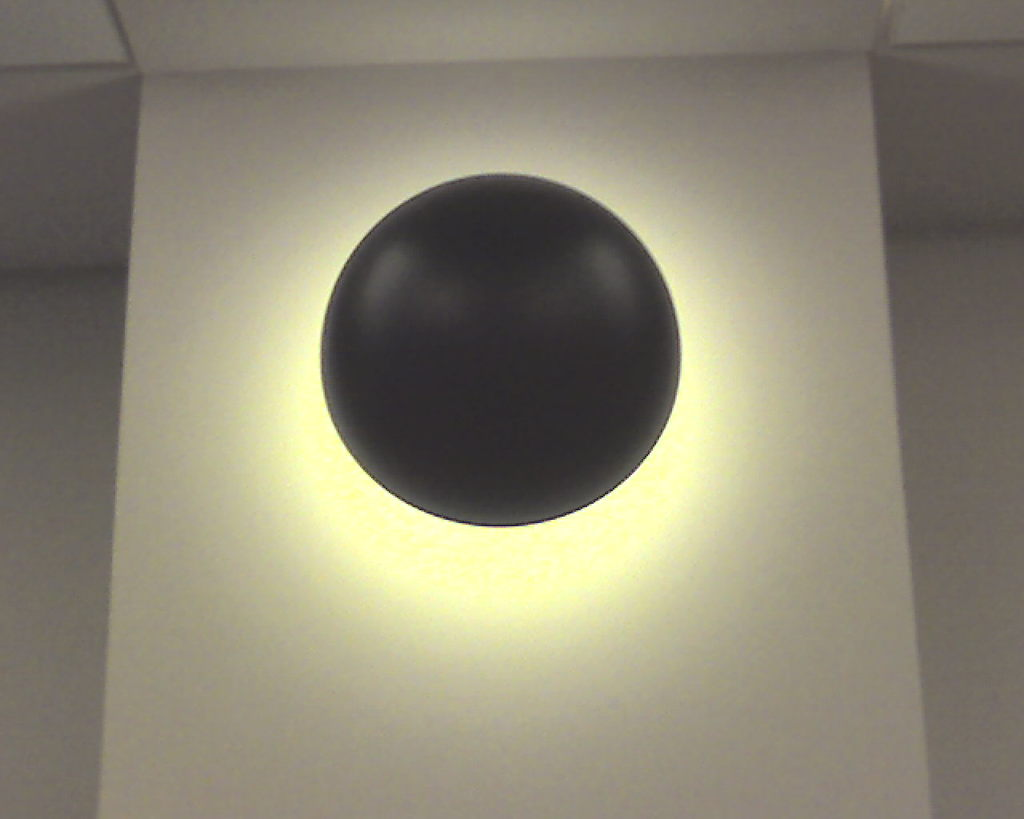Ball: (318, 176, 681, 528)
